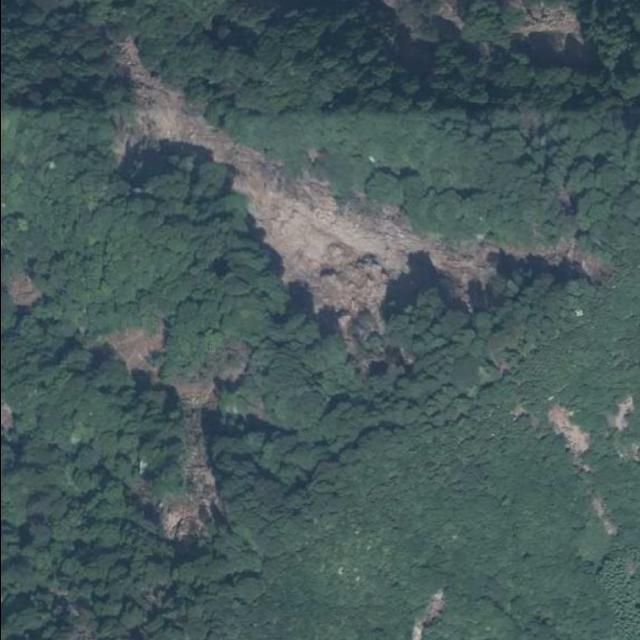landslide: (111, 38, 613, 366), (102, 321, 217, 541)
